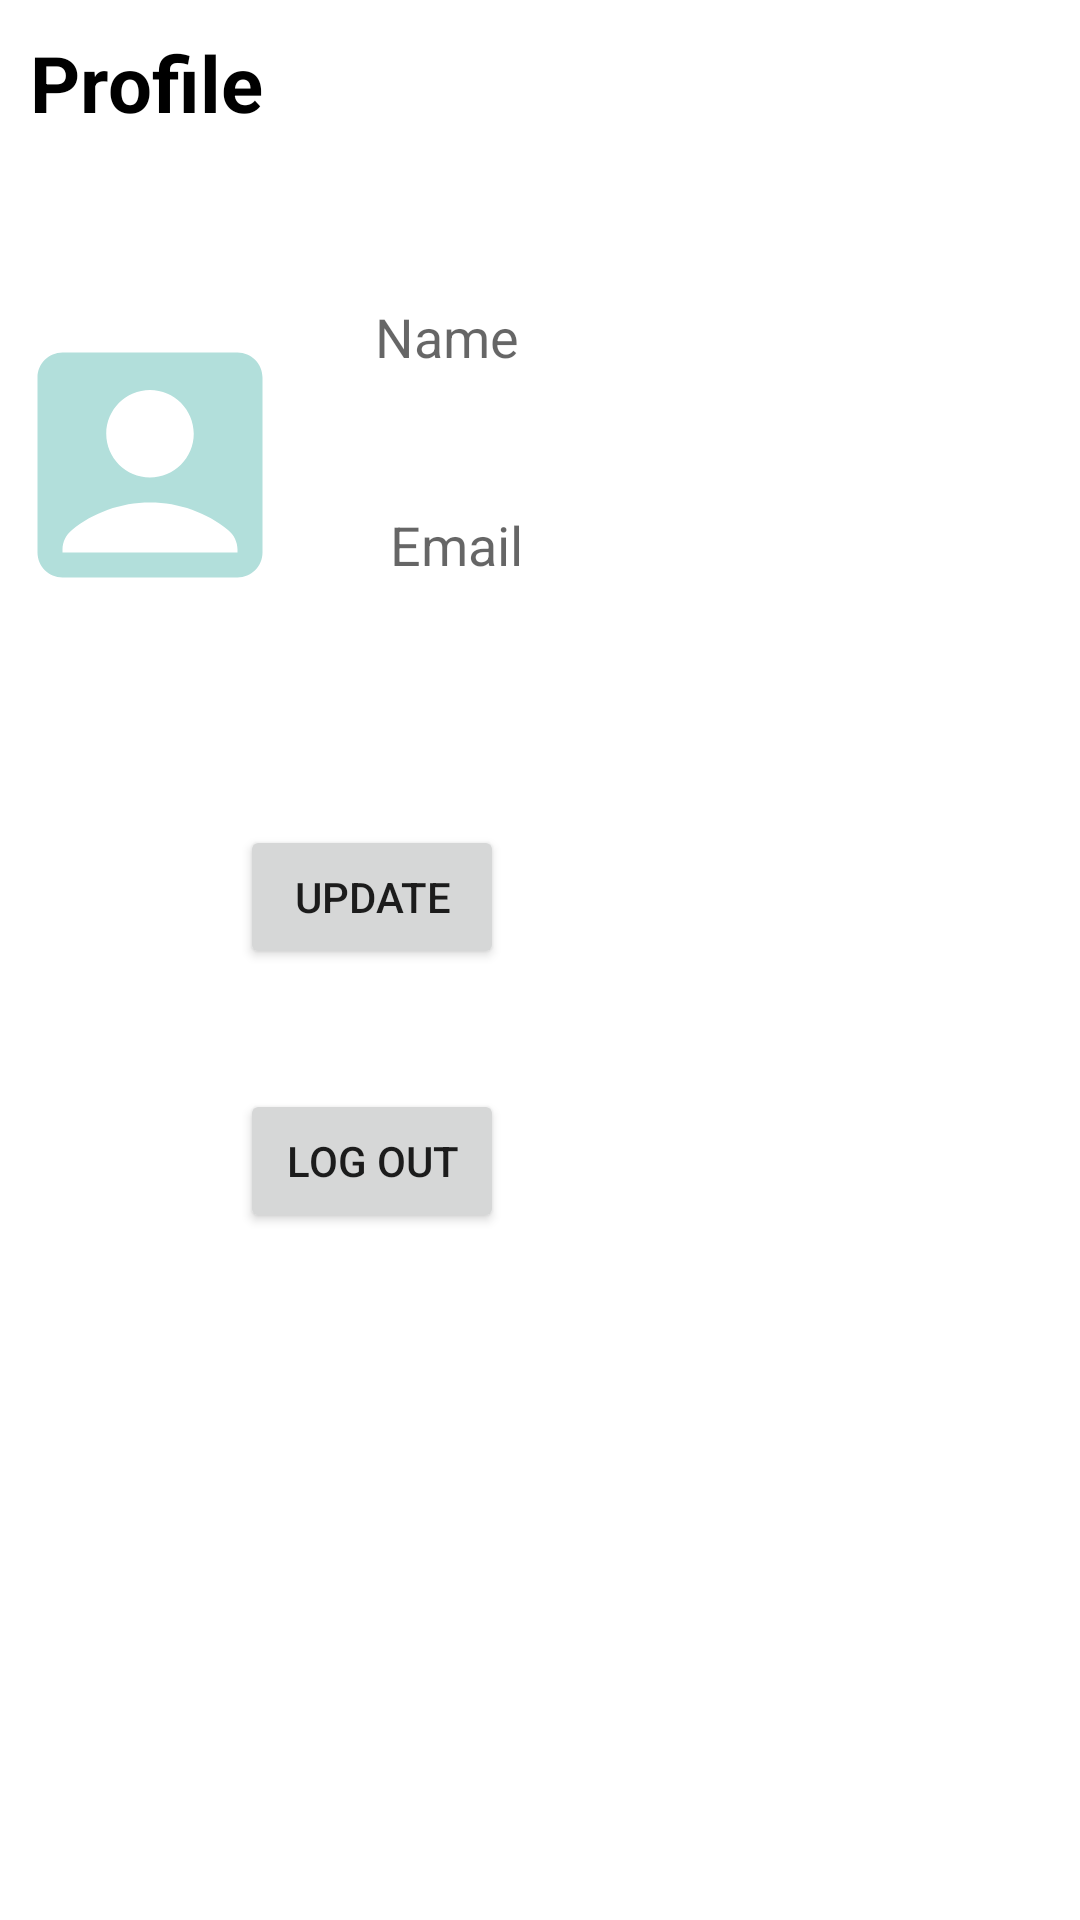

Screen size 1080*1920. Icon name, then its center in pixels as [x,y]:
account box: [150,465]
